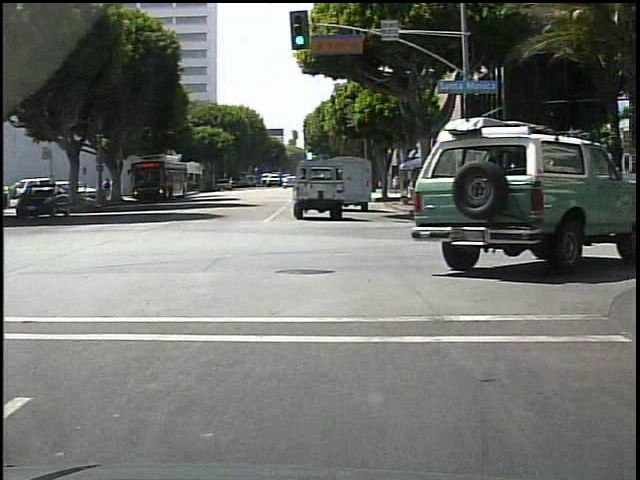person: (545, 158, 568, 227), (585, 164, 604, 224), (571, 169, 590, 222), (479, 166, 497, 218), (522, 156, 538, 214), (509, 162, 525, 214), (514, 166, 529, 217), (472, 165, 483, 216), (112, 175, 122, 203), (102, 176, 111, 199)
